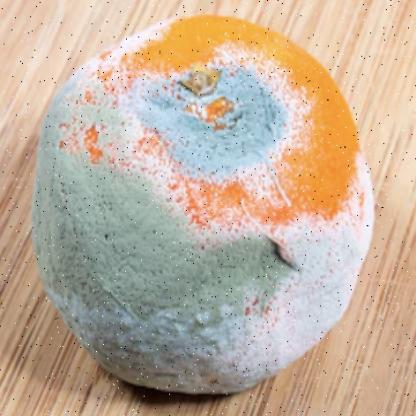rotten: (36, 17, 375, 388)
